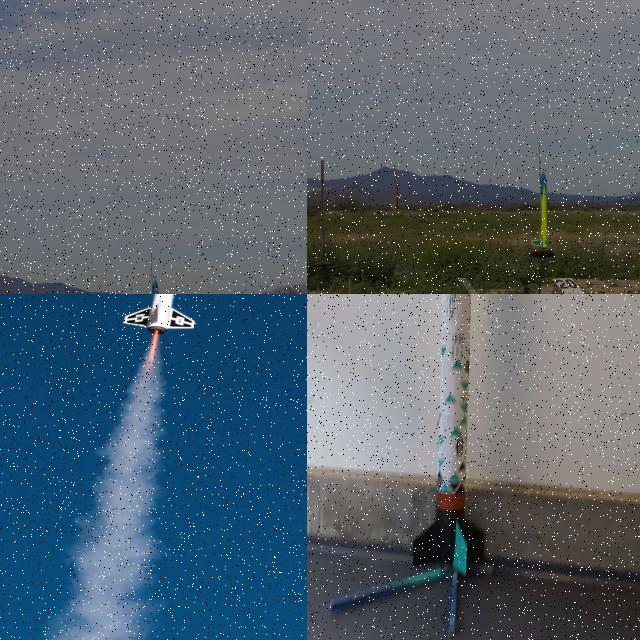Rocket: (413, 294, 484, 577), (123, 294, 198, 336), (531, 171, 554, 249), (143, 278, 165, 294)
